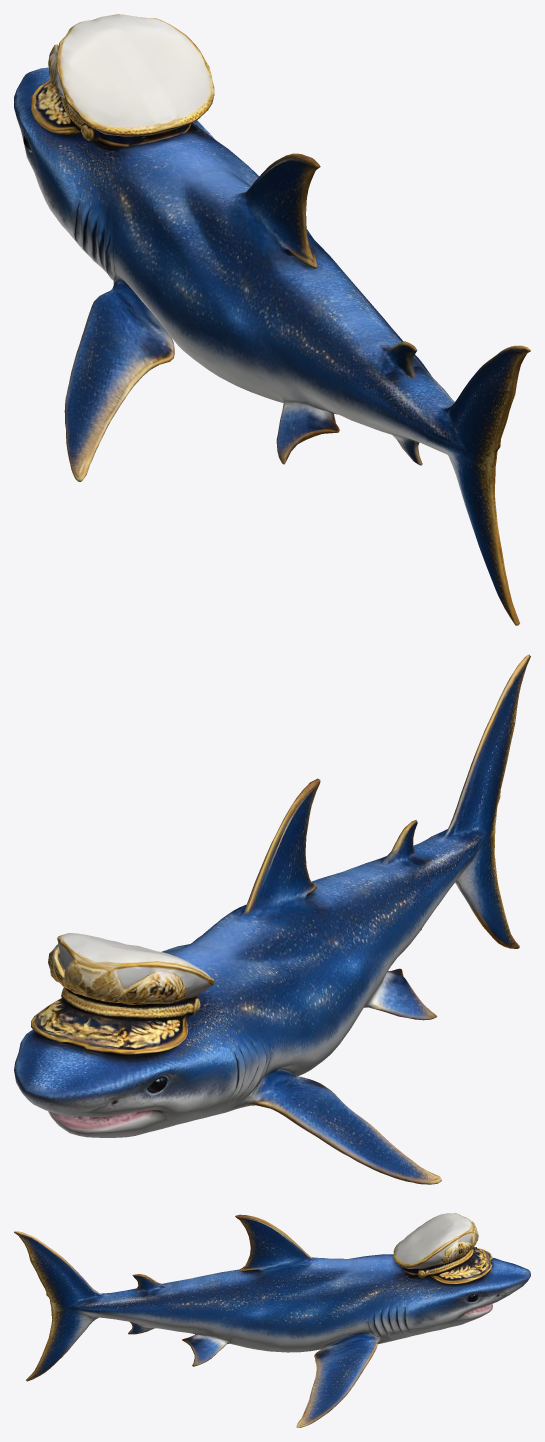
File: shark_t4.glb
3 views of the same model, one above another, from view 1: azimuth 30°, elevation 25°; view 2: azimuth 150°, elevation 25°; view 3: azimuth 270°, elevation 25° (orthographic). The views are drawn at different scales.
Parts seen in each view (by area): view 1: tripo_node_0ca19524-a1a8-484b-9e65-56f5317db211; view 2: tripo_node_0ca19524-a1a8-484b-9e65-56f5317db211; view 3: tripo_node_0ca19524-a1a8-484b-9e65-56f5317db211.
Part boxes in pixels (<box>): tripo_node_0ca19524-a1a8-484b-9e65-56f5317db211: <box>14,14,530,625</box>; tripo_node_0ca19524-a1a8-484b-9e65-56f5317db211: <box>14,654,530,1184</box>; tripo_node_0ca19524-a1a8-484b-9e65-56f5317db211: <box>14,1213,530,1427</box>.
Size of the model in its own units: 0.427 by 0.3563 by 1.
Materials: 1 (1 with a texture image).
